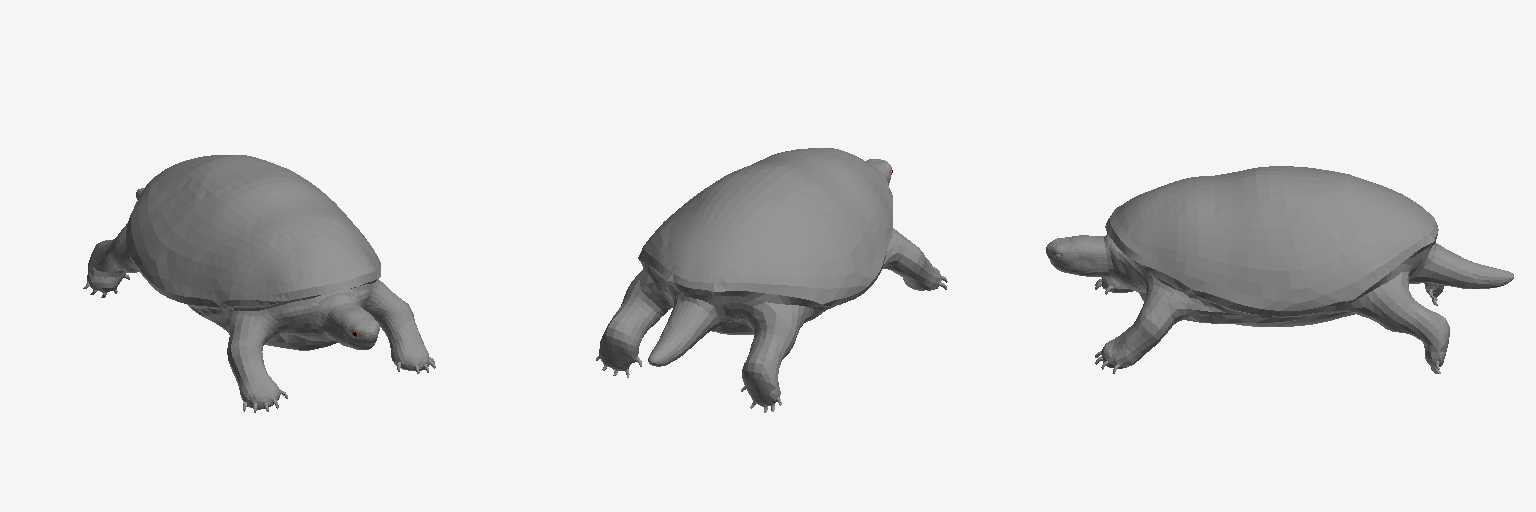
3 renders of one model, left to right at view 1: azimuth 30°, elevation 25°; view 2: azimuth 150°, elevation 25°; view 3: azimuth 270°, elevation 25°, orthographic.
Visible parts, largest first — view 1: polySurface002; view 2: polySurface002; view 3: polySurface002.
Boxes of the visible parts, x1,y1,x2,y2 form: polySurface002: [83, 155, 435, 412]; polySurface002: [596, 148, 947, 412]; polySurface002: [1046, 166, 1513, 373].
Bounding box in the file's own units: 36.49 × 28.53 × 74.64.
5 materials, 1 textured.